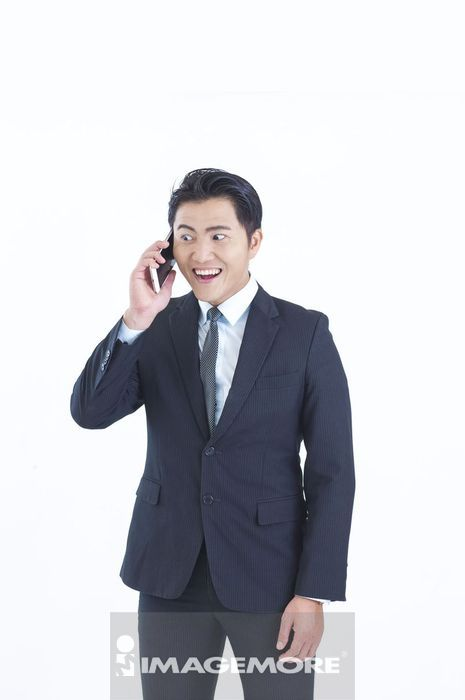phone: (149, 227, 176, 296)
talk: (127, 222, 238, 310)
